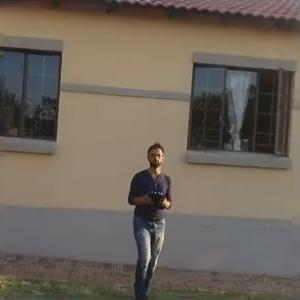follow: (124, 138, 175, 298)
